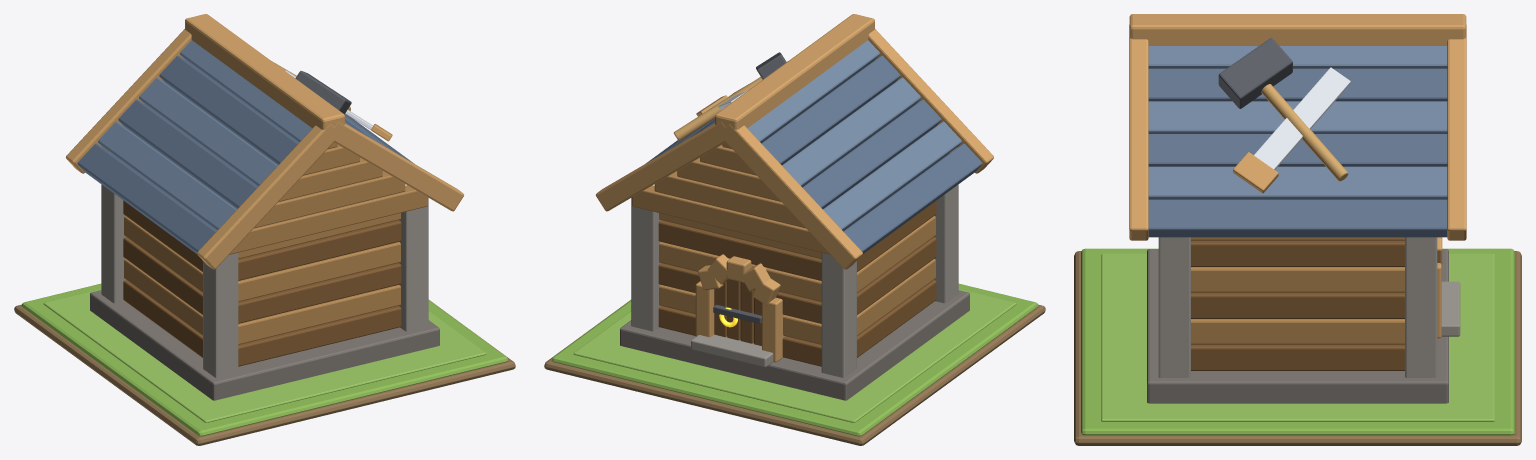
File: builder_barracks_lv3.glb
The picture shows the model from 3 angles, left to right: view 1: azimuth 30°, elevation 25°; view 2: azimuth 150°, elevation 25°; view 3: azimuth 270°, elevation 25°; orthographic projection. The views are drawn at different scales.
Parts seen in each view (by area): view 1: Base_Inner, BB_Foundation, Base_Grass, WallPlank_0, WallPlank_2, RidgeBeam, Base_Dirt, WallPlank_1, WallPlank_3, WallPlank_4, Bargeboard_-1_-1, RoofSlope_-1_5 (+16 smaller); view 2: Base_Inner, BB_Foundation, Base_Grass, RidgeBeam, Base_Dirt, WallPlank_4, Bargeboard_1_-1, RoofSlope_-1_5, RoofSlope_-1_2, RoofSlope_-1_3, RoofSlope_-1_1, RoofSlope_-1_4 (+23 smaller); view 3: Base_Inner, Base_Grass, RoofSlope_1_5, BB_Foundation, RidgeBeam, RoofSlope_1_4, RoofSlope_1_2, RoofSlope_1_3, Base_Dirt, RoofSlope_1_1, RoofSlope_1_0, WallPlank_0 (+14 smaller).
Part boxes in pixels (bbox=[...]): Base_Inner: bbox=[43, 289, 486, 422]; BB_Foundation: bbox=[90, 290, 439, 400]; Base_Grass: bbox=[21, 283, 508, 436]; WallPlank_0: bbox=[123, 280, 401, 366]; WallPlank_2: bbox=[123, 237, 401, 323]; RidgeBeam: bbox=[185, 14, 344, 129]; Base_Dirt: bbox=[14, 300, 515, 445]; WallPlank_1: bbox=[124, 259, 400, 344]; WallPlank_3: bbox=[124, 216, 400, 301]; WallPlank_4: bbox=[123, 200, 401, 280]; Bargeboard_-1_-1: bbox=[197, 124, 335, 269]; RoofSlope_-1_5: bbox=[77, 143, 216, 253]; Base_Inner: bbox=[573, 289, 1016, 422]; BB_Foundation: bbox=[620, 290, 969, 400]; Base_Grass: bbox=[551, 283, 1038, 436]; RidgeBeam: bbox=[715, 14, 874, 129]; Base_Dirt: bbox=[544, 300, 1045, 445]; WallPlank_4: bbox=[658, 200, 936, 280]; Bargeboard_1_-1: bbox=[720, 124, 862, 269]; RoofSlope_-1_5: bbox=[843, 143, 982, 253]; RoofSlope_-1_2: bbox=[782, 77, 920, 187]; RoofSlope_-1_3: bbox=[802, 99, 941, 208]; RoofSlope_-1_1: bbox=[761, 55, 900, 164]; RoofSlope_-1_4: bbox=[823, 121, 961, 230]; Base_Inner: bbox=[1101, 253, 1494, 421]; Base_Grass: bbox=[1081, 248, 1514, 435]; RoofSlope_1_5: bbox=[1148, 199, 1447, 237]; BB_Foundation: bbox=[1147, 249, 1448, 403]; RidgeBeam: bbox=[1129, 14, 1466, 45]; RoofSlope_1_4: bbox=[1148, 166, 1447, 199]; RoofSlope_1_2: bbox=[1148, 101, 1447, 133]; RoofSlope_1_3: bbox=[1148, 134, 1447, 166]; Base_Dirt: bbox=[1074, 251, 1521, 445]; RoofSlope_1_1: bbox=[1148, 68, 1447, 101]; RoofSlope_1_0: bbox=[1148, 46, 1447, 68]; WallPlank_0: bbox=[1191, 344, 1404, 370].
Size of the model in its own units: 2.76 by 2.27 by 2.76.
